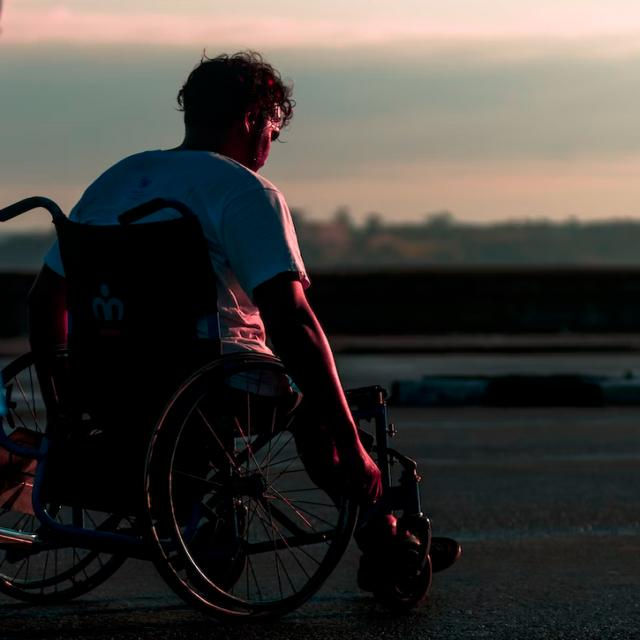wheelchairs: (2, 192, 461, 625)
